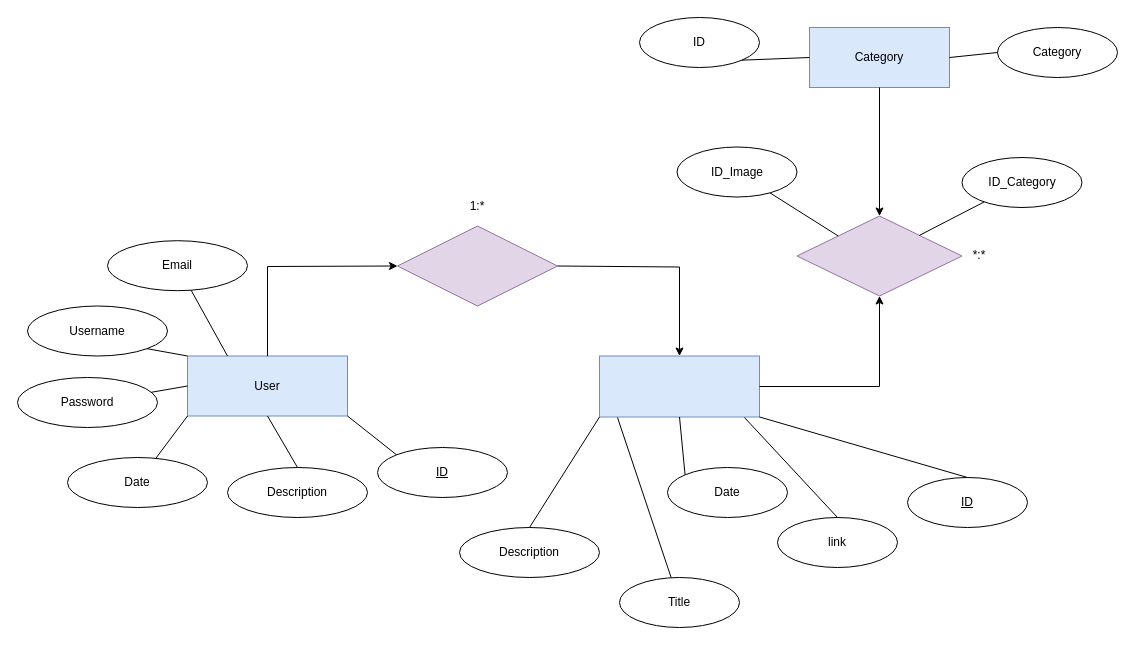
Image size: 1135x645. Some labels were removed from this diagram. Here are the shapes that lost their labels. From the top down, the box of each, then its label:
(396, 225, 558, 306): Create
(796, 215, 962, 296): Belongs
(598, 355, 760, 417): Image
